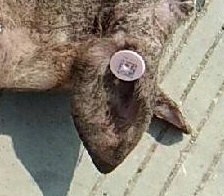text: (102, 44, 151, 87)
